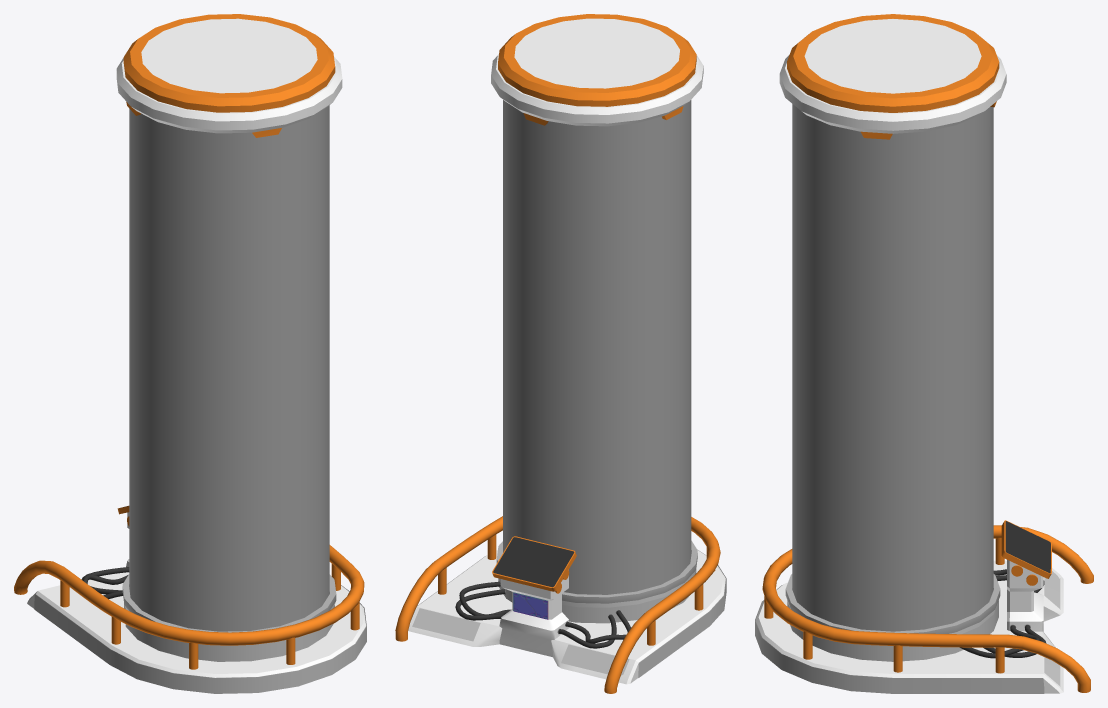
Rendered from S_TankPartie2_LOD1.fbx.
The picture shows the model from 3 angles, left to right: view 1: azimuth 30°, elevation 25°; view 2: azimuth 150°, elevation 25°; view 3: azimuth 270°, elevation 25°; orthographic projection. The views are drawn at different scales.
Parts seen in each view (by area): view 1: polySurface116, polySurface87, polySurface36, polySurface70, polySurface71, polySurface41; view 2: polySurface116, polySurface87, polySurface36, polySurface70, polySurface41, polySurface71, polySurface39, polySurface40, polySurface85, polySurface38, polySurface79; view 3: polySurface116, polySurface87, polySurface36, polySurface70, polySurface71, polySurface41.
Boxes of the visible parts, left/top/right/bottom form: polySurface116: left=129, top=105, right=329, bottom=631; polySurface87: left=116, top=14, right=342, bottom=137; polySurface36: left=27, top=505, right=366, bottom=677; polySurface70: left=14, top=545, right=364, bottom=645; polySurface71: left=34, top=585, right=366, bottom=693; polySurface41: left=124, top=604, right=334, bottom=661; polySurface116: left=503, top=100, right=691, bottom=594; polySurface87: left=491, top=14, right=703, bottom=126; polySurface36: left=408, top=536, right=725, bottom=684; polySurface70: left=395, top=516, right=720, bottom=693; polySurface41: left=498, top=570, right=696, bottom=623; polySurface71: left=417, top=550, right=726, bottom=677; polySurface39: left=412, top=608, right=480, bottom=641; polySurface40: left=561, top=644, right=629, bottom=675; polySurface85: left=513, top=592, right=548, bottom=619; polySurface38: left=455, top=588, right=505, bottom=620; polySurface79: left=565, top=609, right=631, bottom=643; polySurface116: left=792, top=104, right=993, bottom=631; polySurface87: left=779, top=14, right=1006, bottom=139; polySurface36: left=755, top=520, right=1063, bottom=693; polySurface70: left=762, top=525, right=1093, bottom=692; polySurface71: left=755, top=585, right=1044, bottom=693; polySurface41: left=787, top=600, right=998, bottom=661.
Size of the model in its own units: 262 by 607 by 322.
